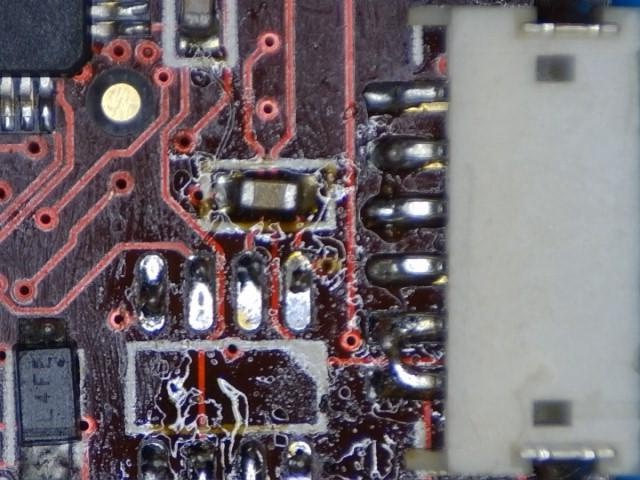pcb_defect: (368, 313, 446, 400)
